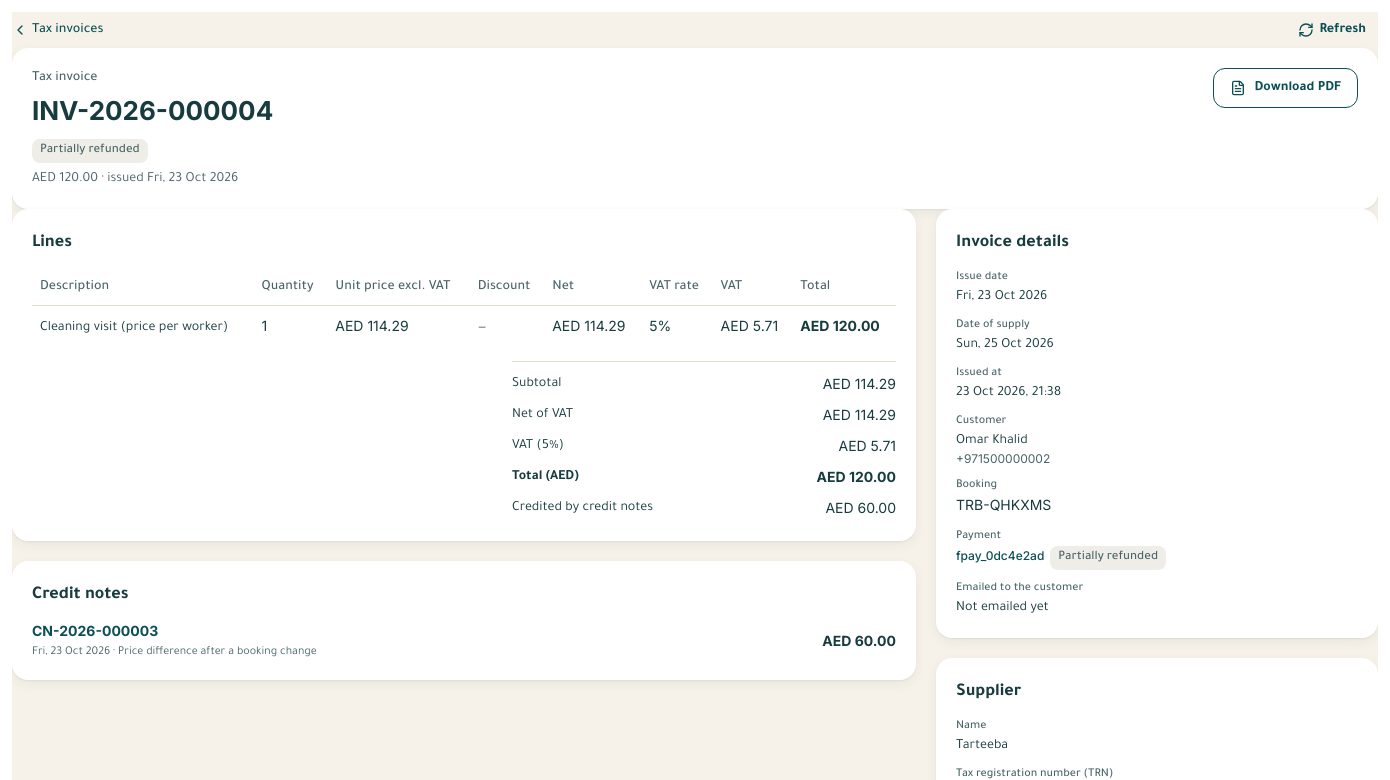
it: InvoiceDetailScreen › downloads the PDF through a short-lived signed link
Click the button with aria-label "Download PDF of INV-2026-000004" at (1286, 88), box [1213,68,1358,108]
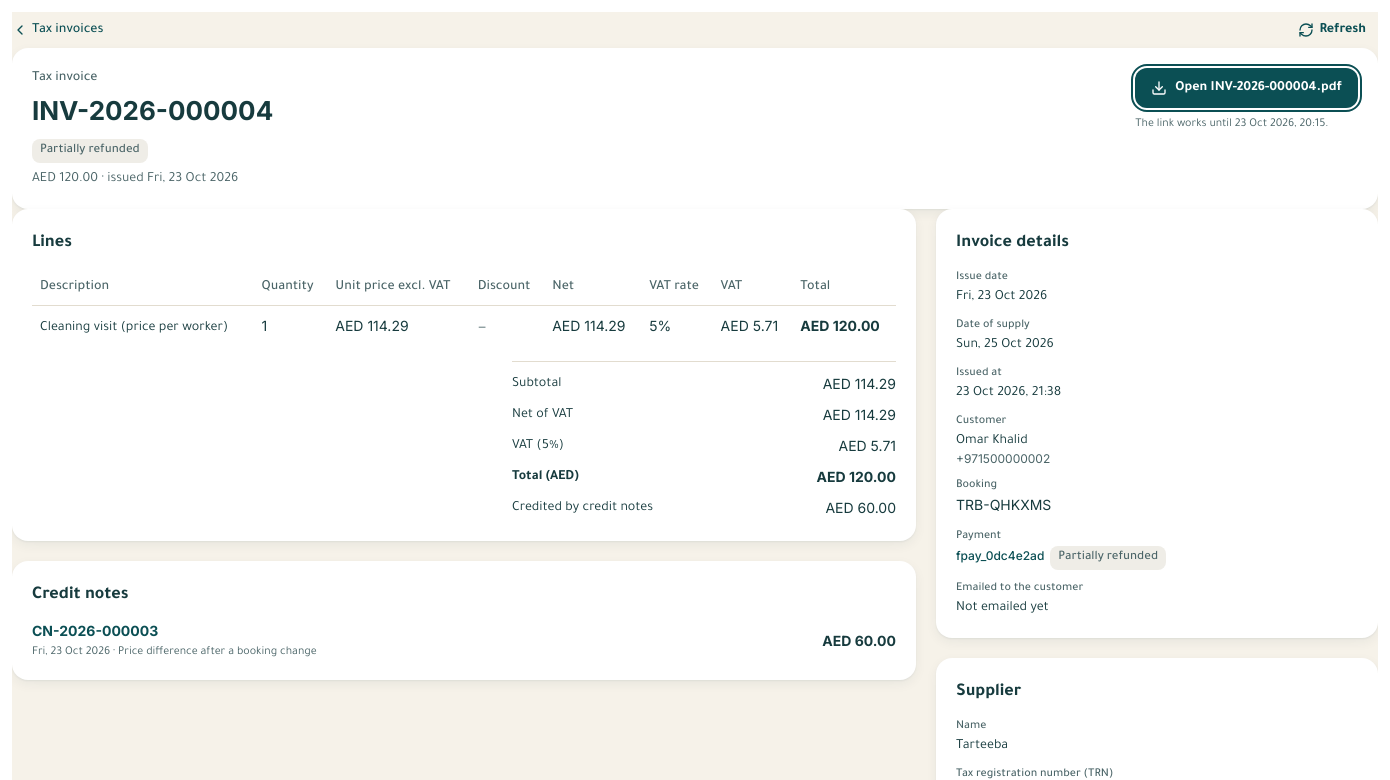
Expected: the text "The link works until 23 Oct 2026, 20:15." is shown, [1135,116,1328,132]
